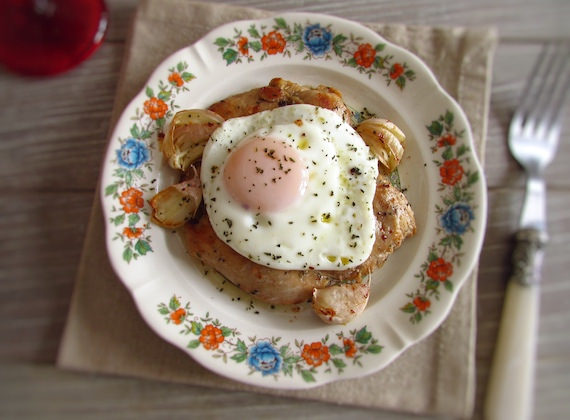fried egg: (206, 119, 384, 270)
